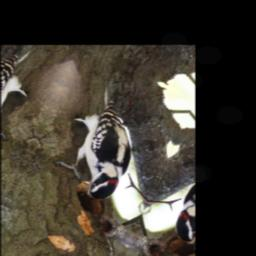Woodpecker: (46, 83, 153, 210)
